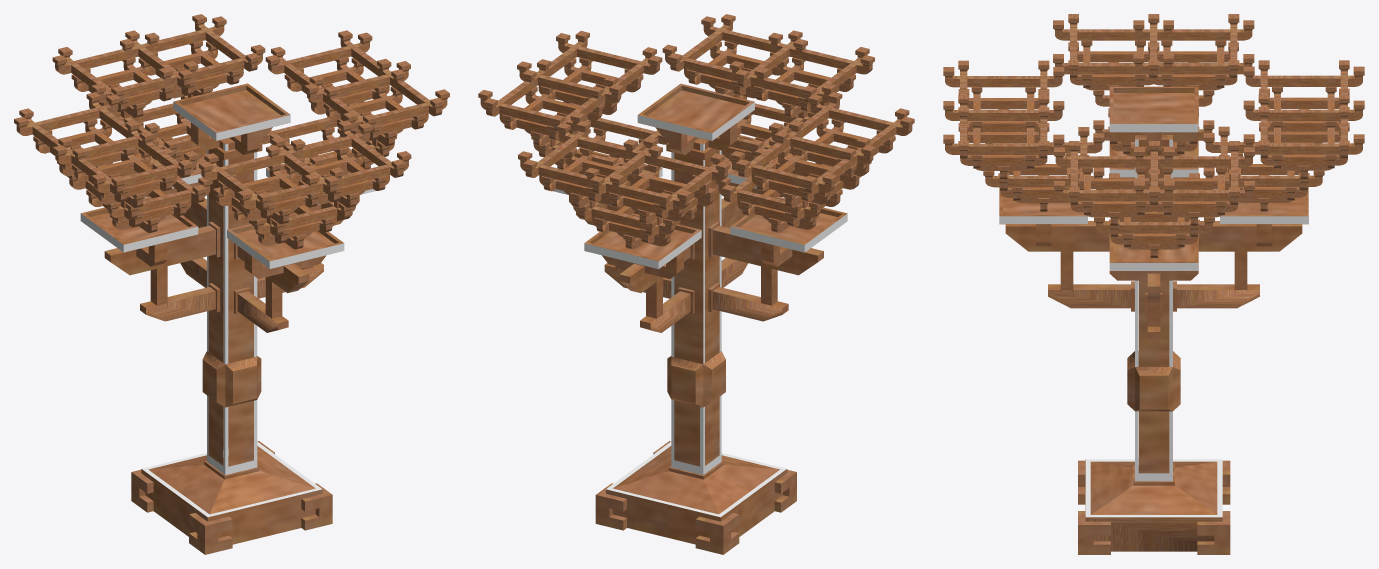
The picture shows the model from 3 angles, left to right: view 1: azimuth 30°, elevation 25°; view 2: azimuth 150°, elevation 25°; view 3: azimuth 270°, elevation 25°; orthographic projection. The views are drawn at different scales.
Visible parts, largest first — view 1: R5L4; view 2: R5L4; view 3: R5L4.
Part boxes in pixels (left/top/right/bottom): R5L4: left=14, top=14, right=449, bottom=554; R5L4: left=478, top=14, right=914, bottom=554; R5L4: left=943, top=14, right=1364, bottom=554.
Bounding box in the file's own units: 46.98 × 51.65 × 46.98.
Materials: 2 (1 with a texture image).
